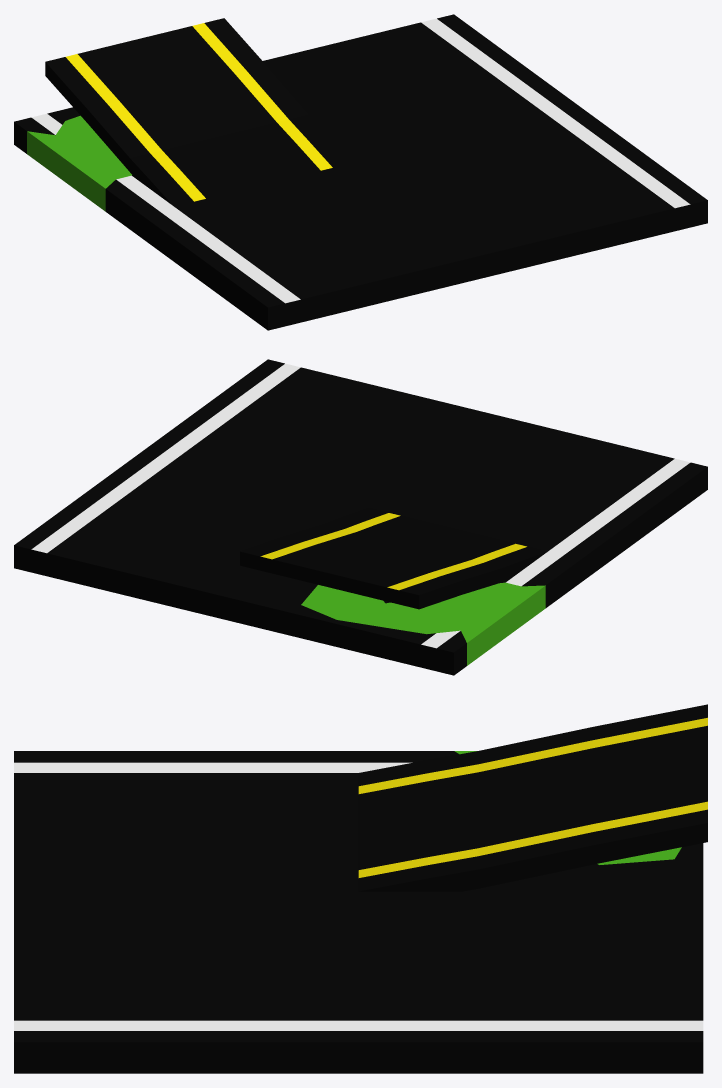
File: ramp_export.fbx
3 renders of one model, top to bottom at view 1: azimuth 30°, elevation 25°; view 2: azimuth 150°, elevation 25°; view 3: azimuth 270°, elevation 25°, orthographic. The views are drawn at different scales.
Visible parts, largest first — view 1: Cube; view 2: Cube; view 3: Cube.
Part boxes in pixels (bbox=[...]): Cube: bbox=[14, 14, 707, 330]; Cube: bbox=[14, 359, 707, 675]; Cube: bbox=[14, 704, 707, 1073].
Bounding box in the file's own units: 2000 × 320 × 2014.
